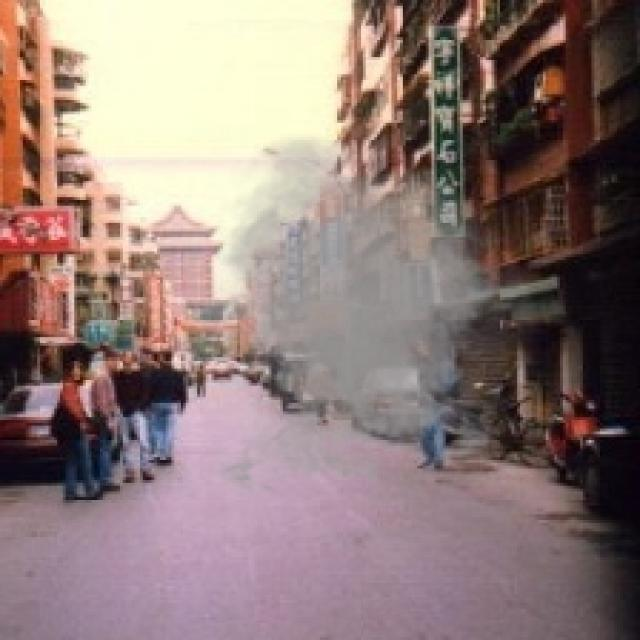smoke: (160, 128, 551, 506)
